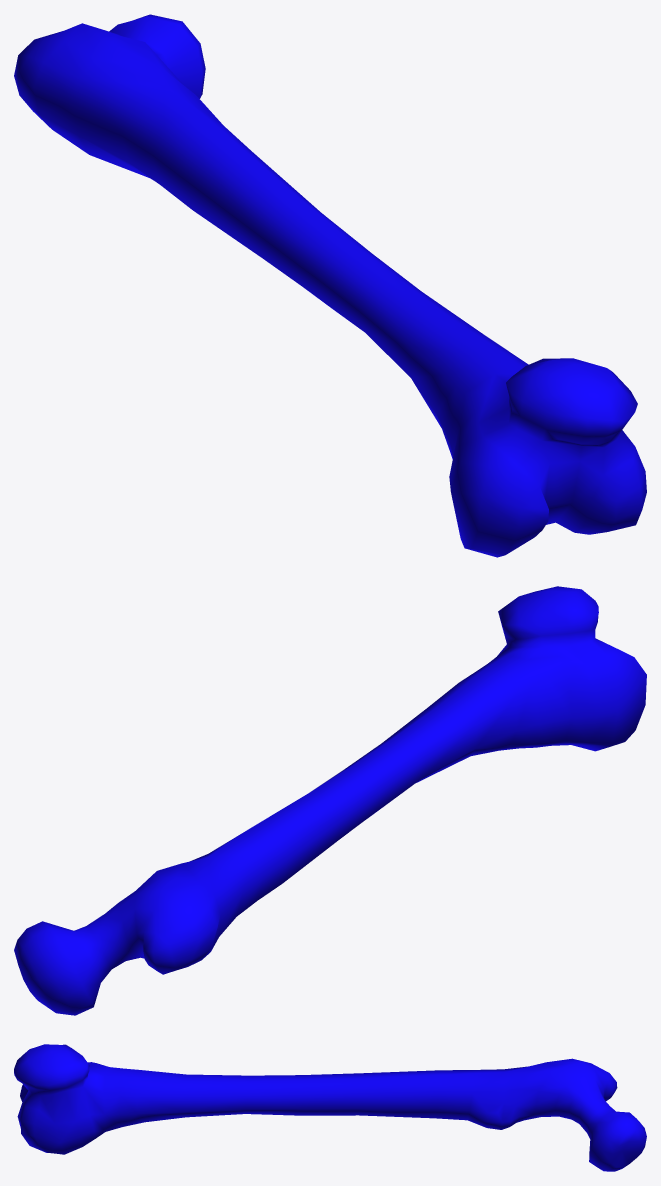
Rendered from SM_R_Femur.FBX.
3 views of the same model, one above another, from view 1: azimuth 30°, elevation 25°; view 2: azimuth 150°, elevation 25°; view 3: azimuth 270°, elevation 25° (orthographic). The views are drawn at different scales.
Visible parts, largest first — view 1: R_Femur; view 2: R_Femur; view 3: R_Femur.
Part boxes in pixels (box(x1,y1,x2,y2)): R_Femur: box(14, 14, 646, 557); R_Femur: box(14, 586, 646, 1015); R_Femur: box(14, 1044, 646, 1171).
Size of the model in its own units: 12.28 by 8 by 48.41.
